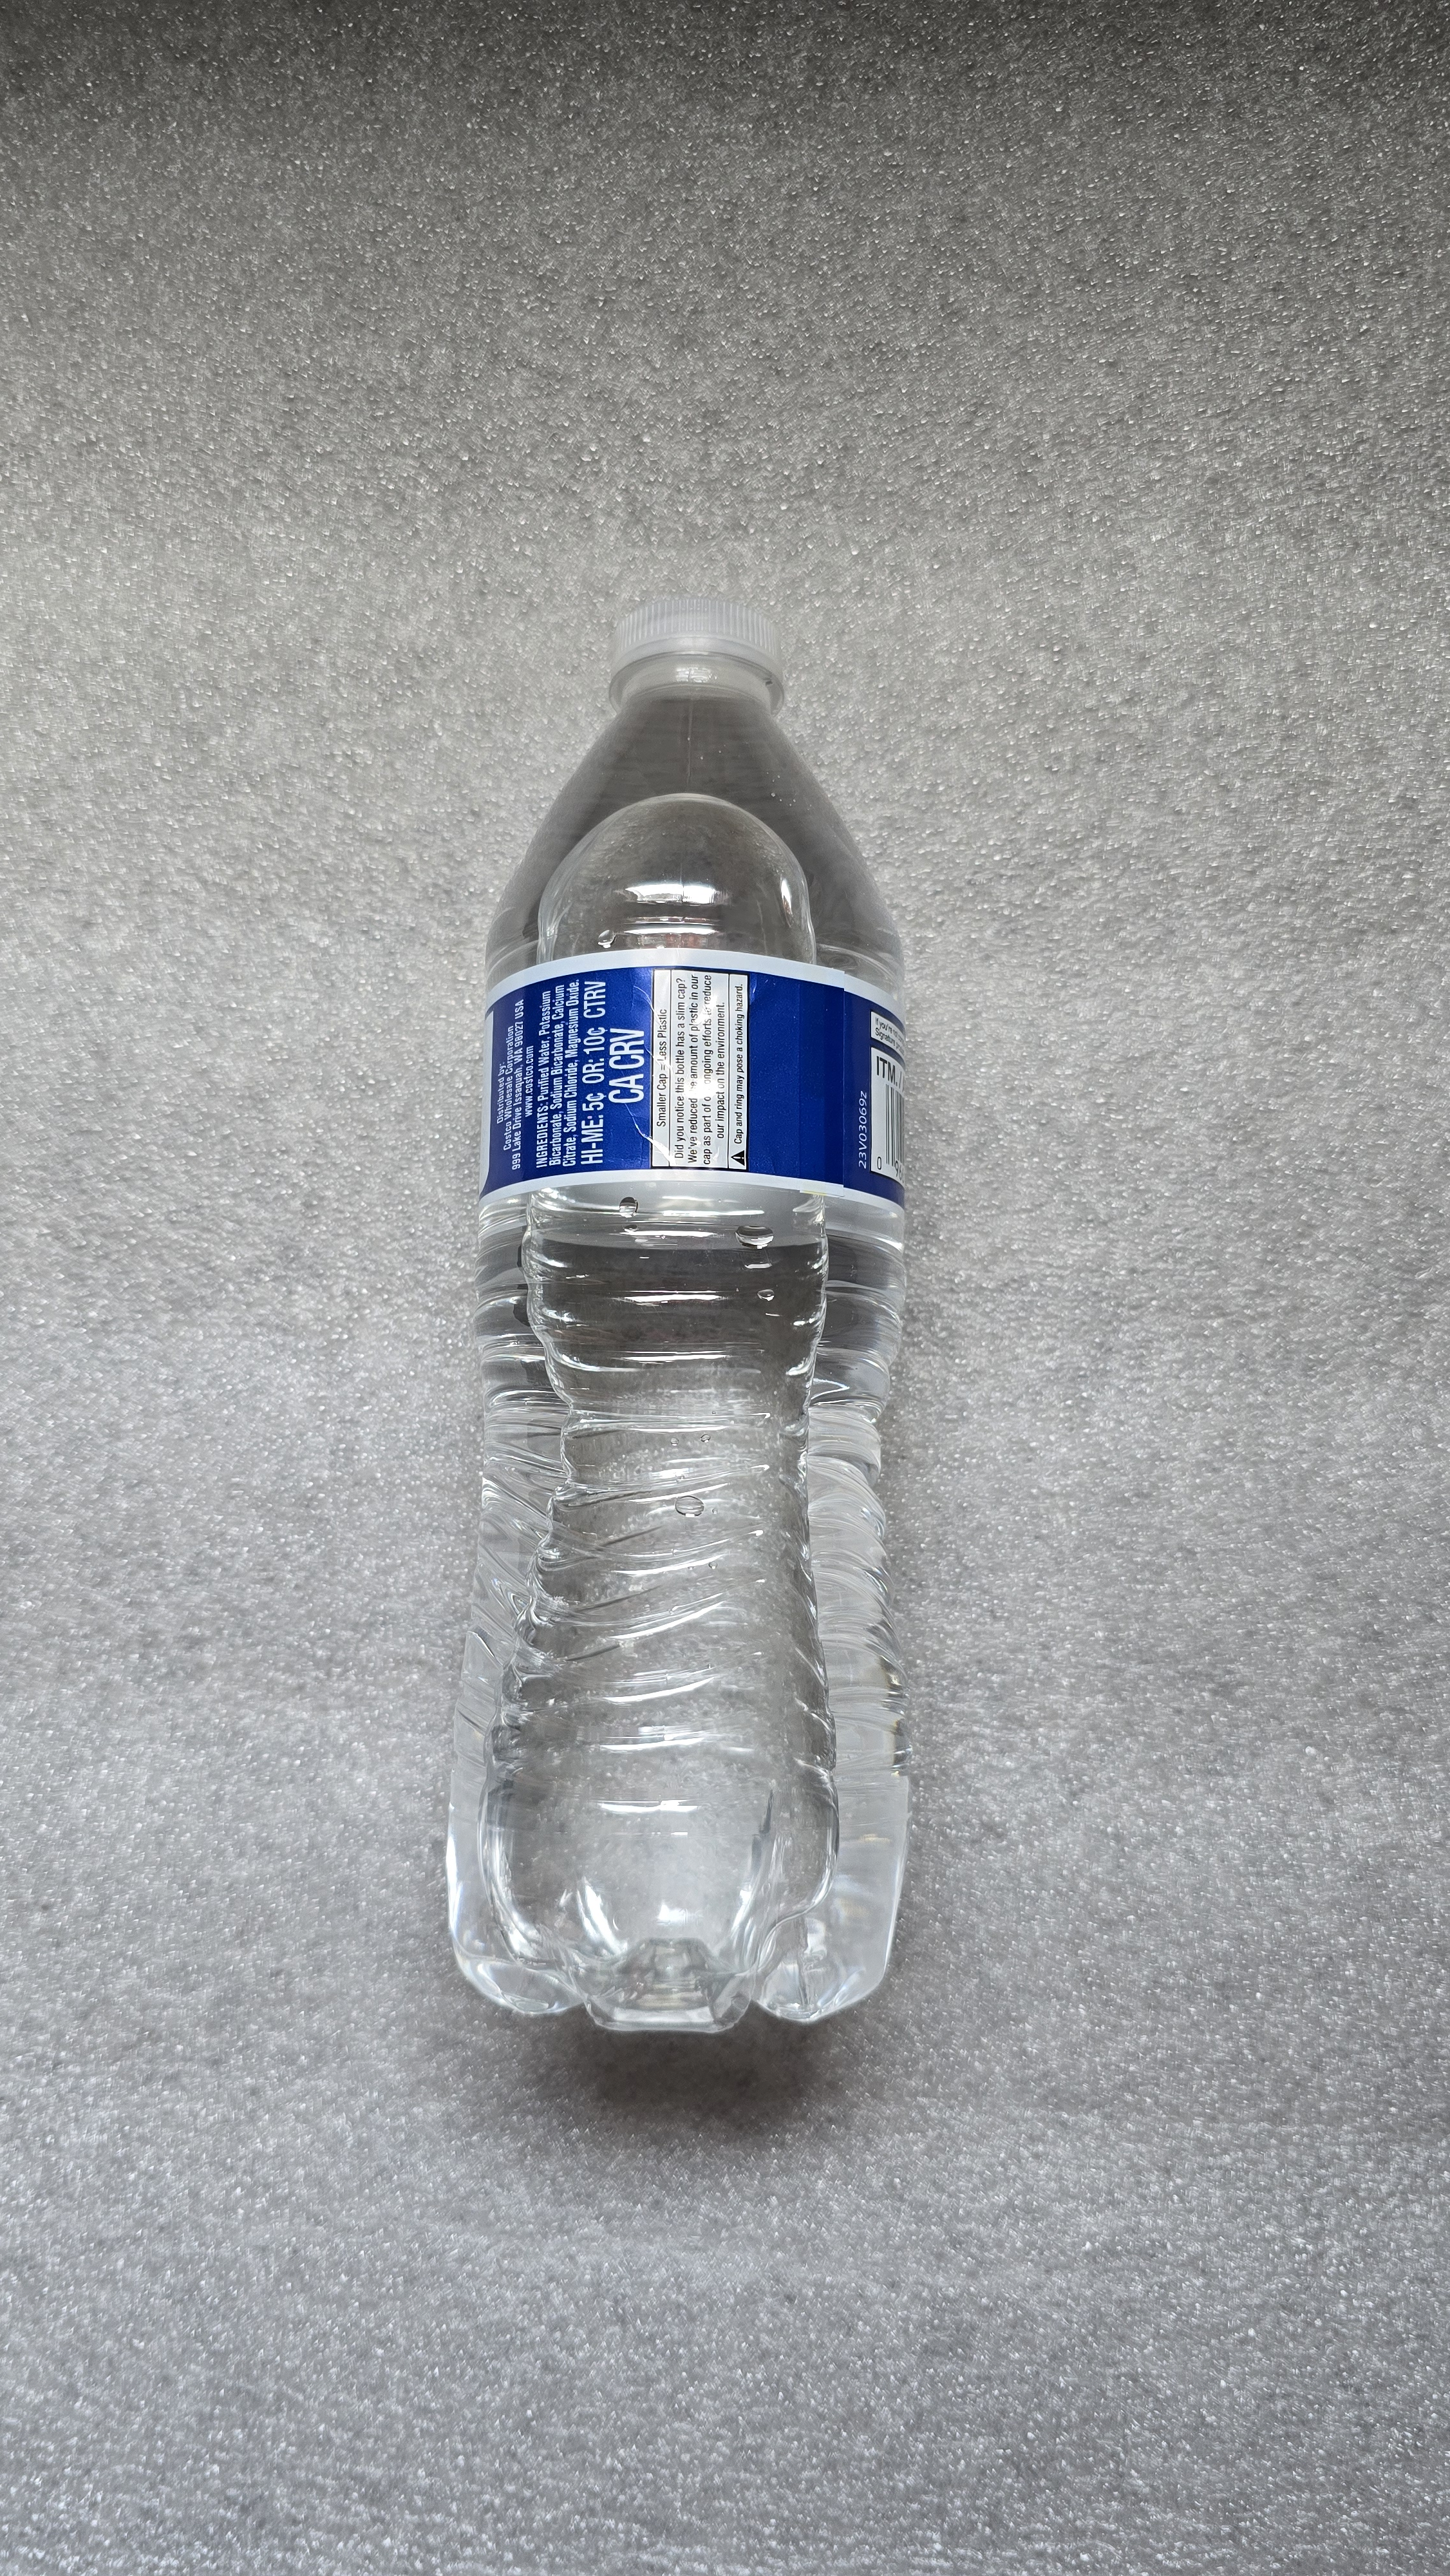bottle: (428, 547, 941, 2072)
